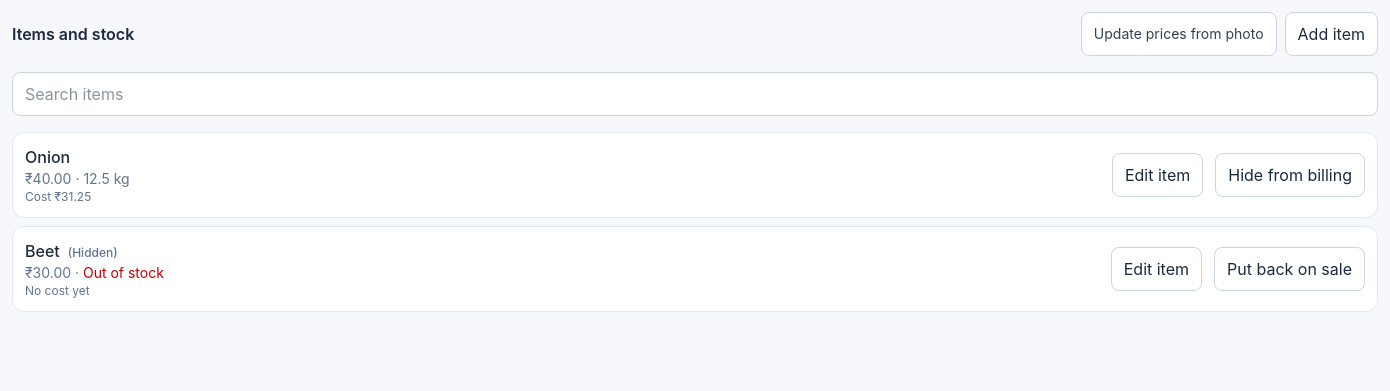
Test: the items screen › shows a problem banner when a toggle is rejected
Click the button with test id "^item-toggle-" at {"x": 1290, "y": 175}, box [1215,153,1365,197]
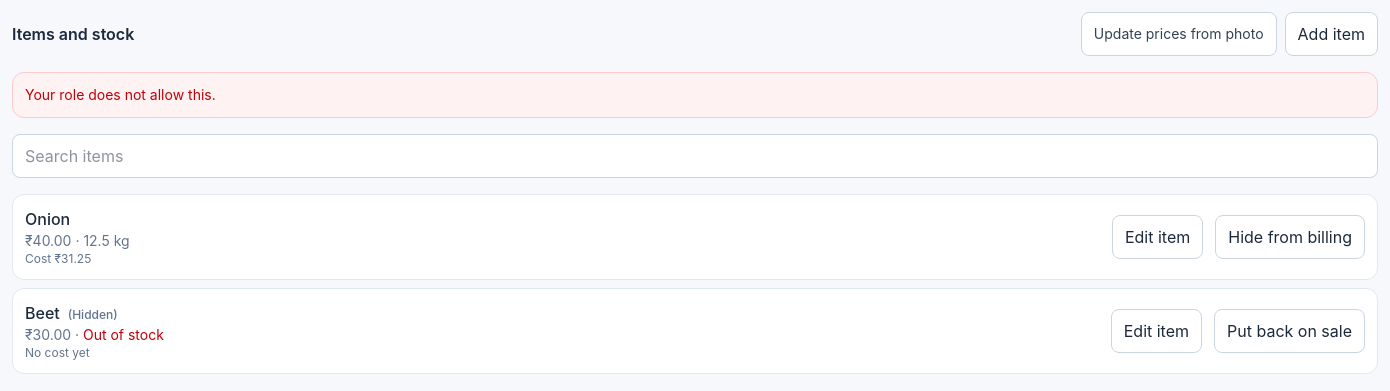
Expected: the text "Your role does not allow this." is shown, [25,85,216,105]
